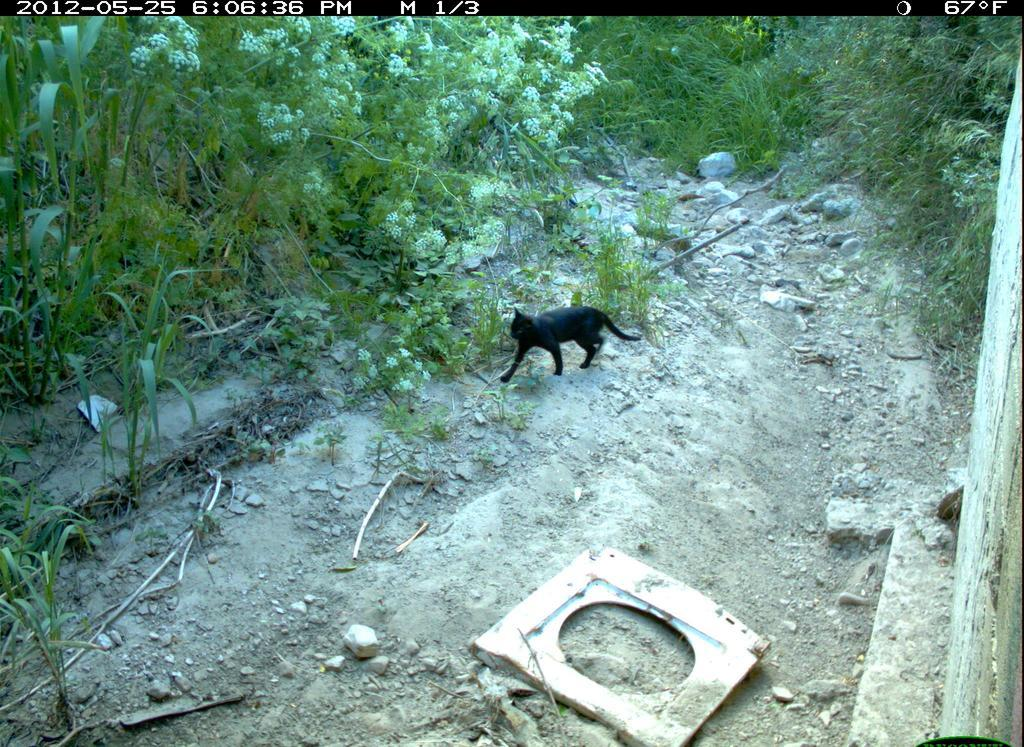cat: (492, 287, 652, 411)
